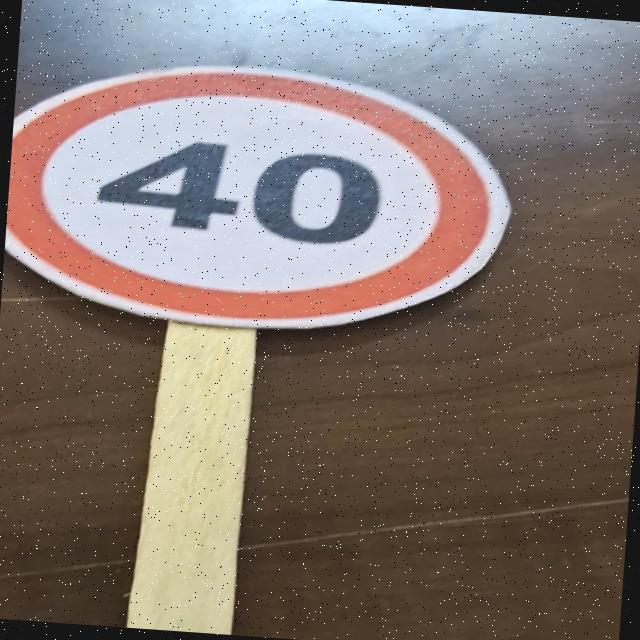Speed40: (0, 47, 522, 345)
